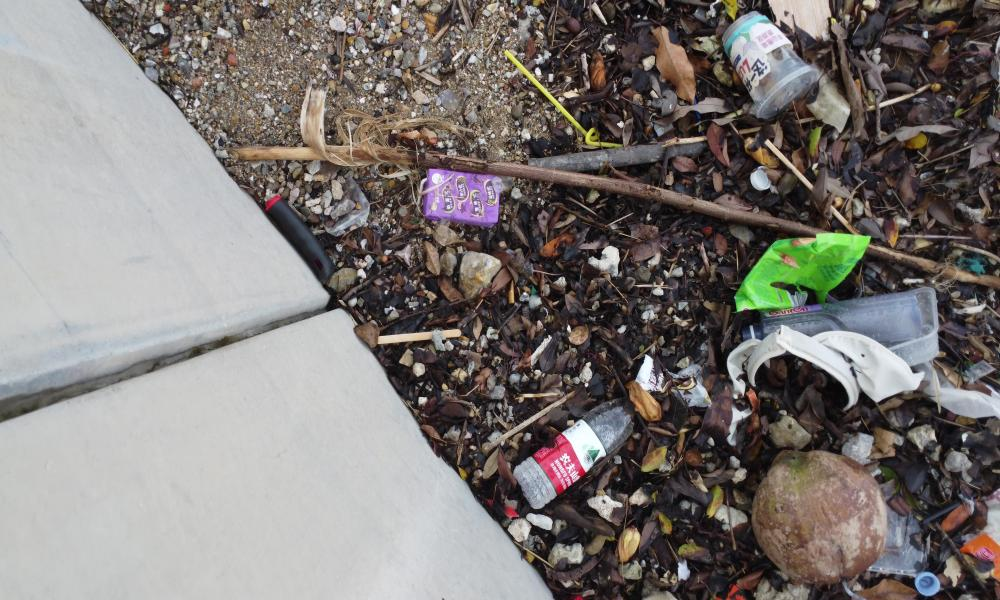carton: (422, 165, 503, 224)
plastic bottle: (517, 410, 640, 502), (750, 291, 942, 347), (729, 12, 812, 115)
